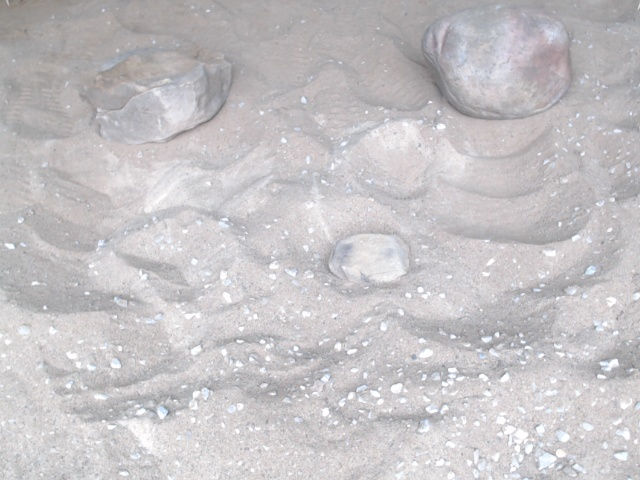rock: (416, 3, 578, 125), (74, 36, 239, 151), (324, 226, 414, 294)
